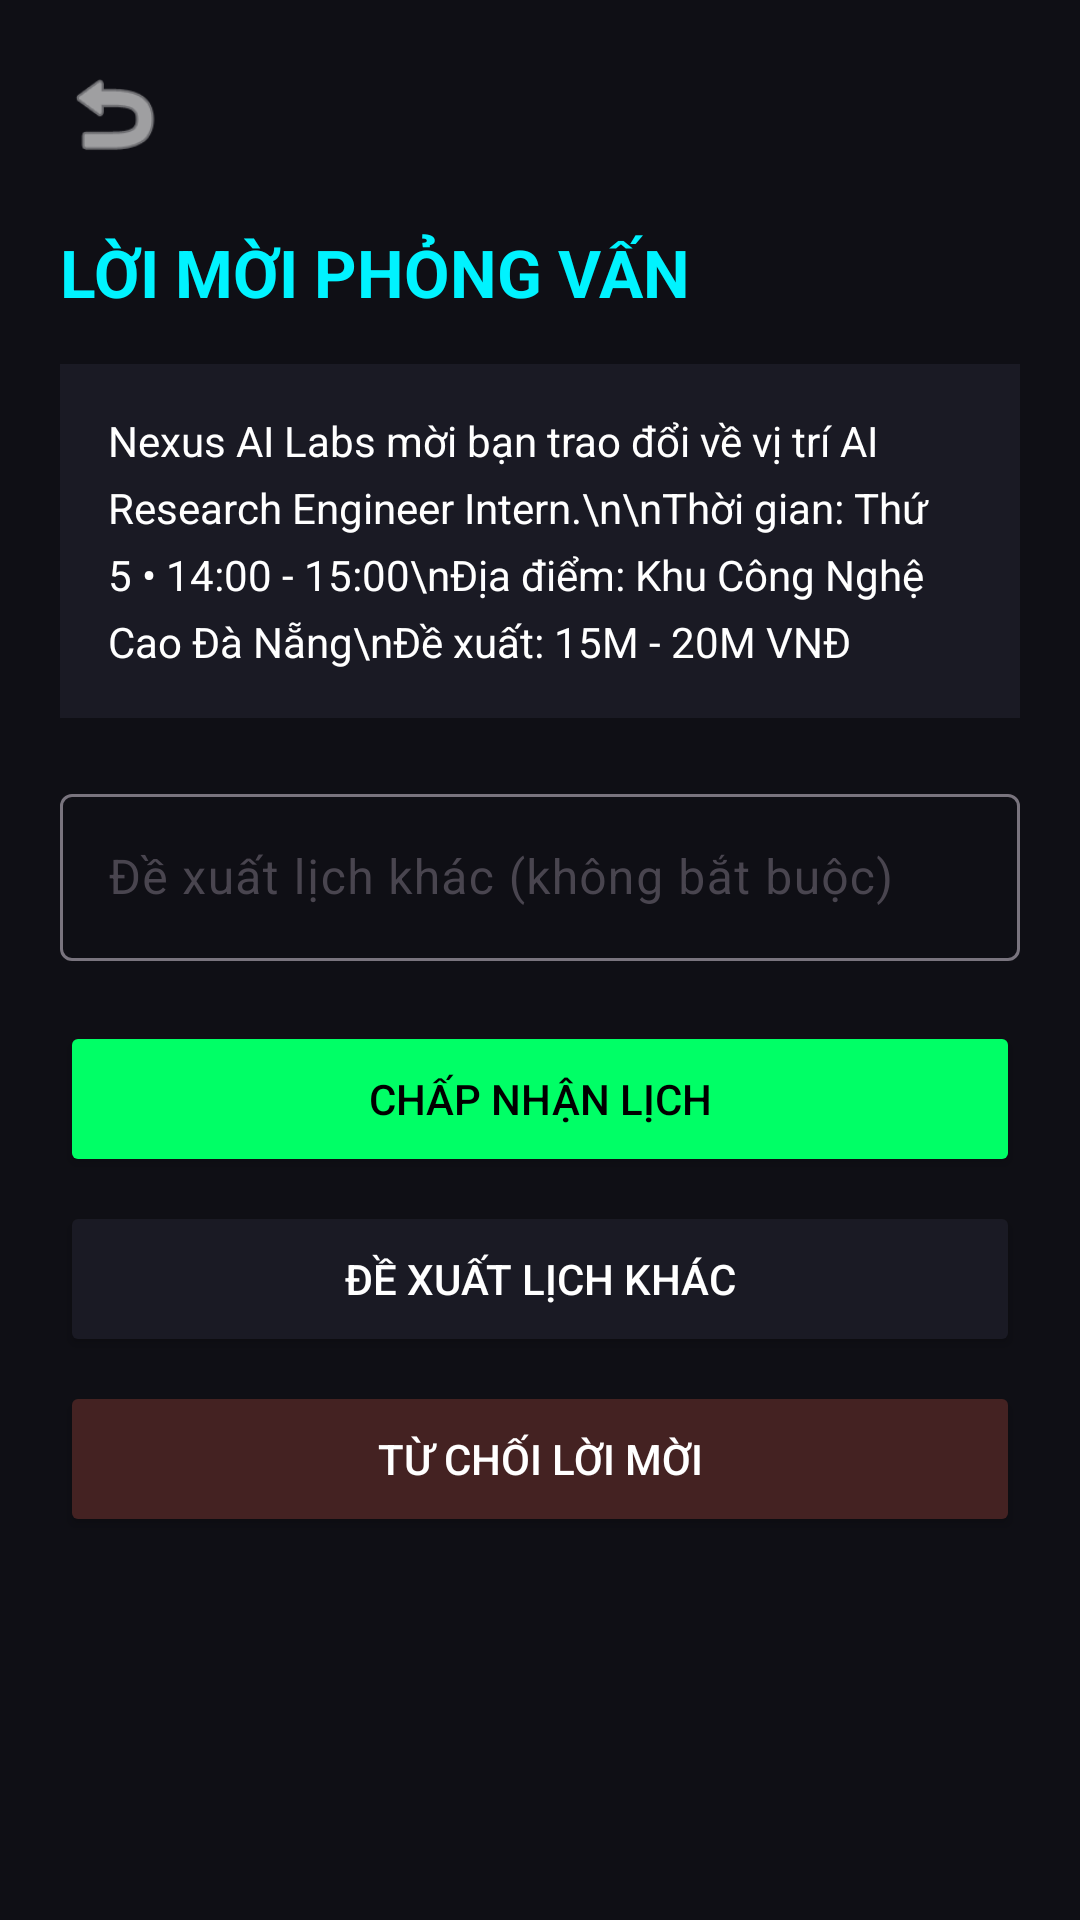

Icons on this 1080px x 1920px Android screen, each with its box as BBox(x1, y1, x2, y2):
Quay lại: BBox(76, 80, 155, 150)
